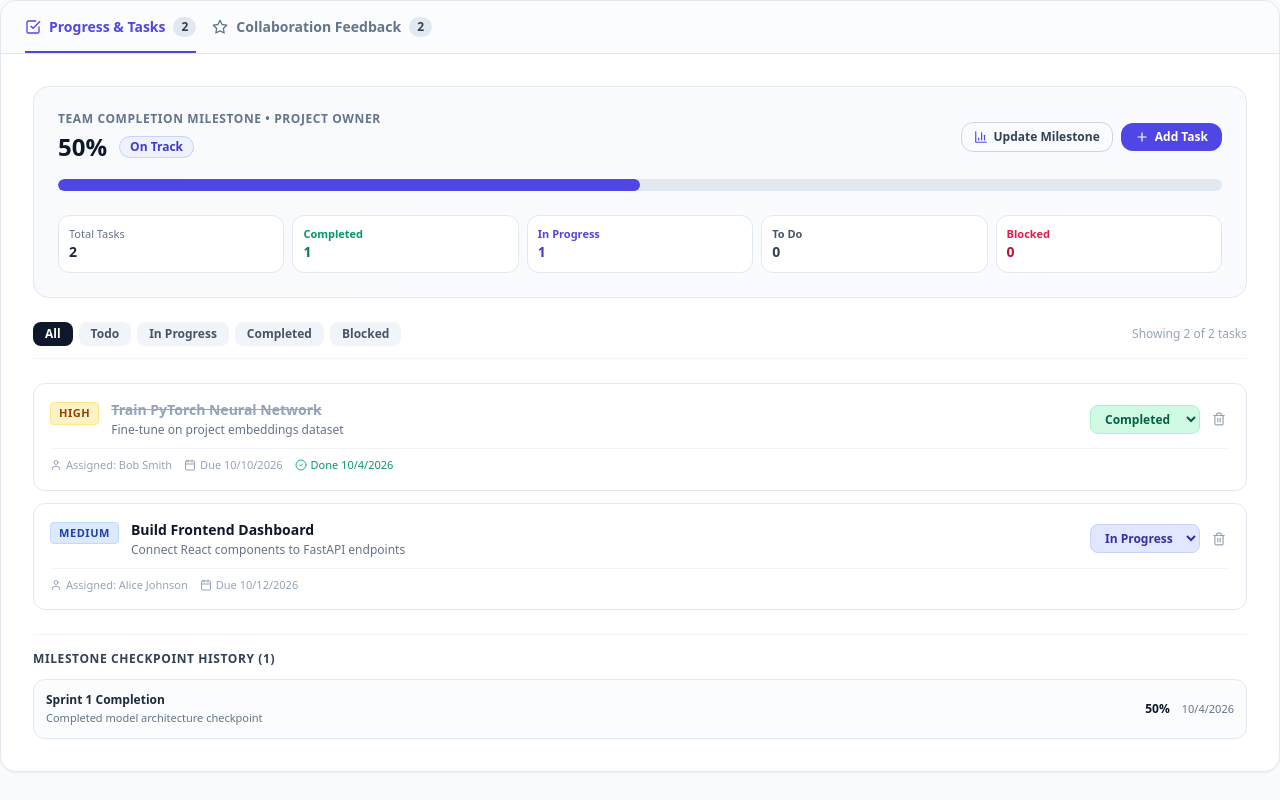
Scenario: Phase 14: Project Progress & Collaboration Feedback Frontend Tests › switches to Collaboration Feedback tab and renders satisfaction metrics
This screenshot has width=1280, height=800.
Expected: the text "Progress & Tasks" is shown, [49, 17, 166, 37]
Click the text "Collaboration Feedback" at x=319, y=27, box [236, 17, 401, 37]
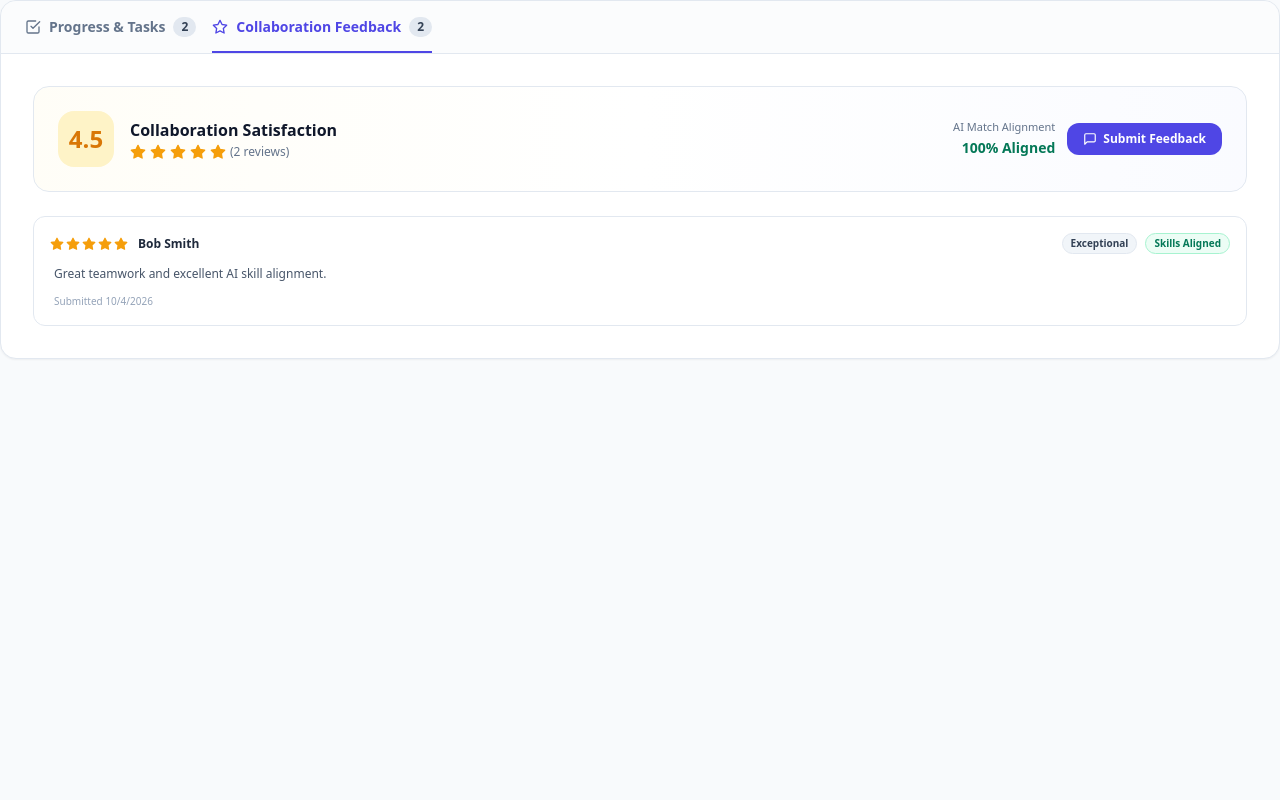
Expected: the text "4.5" is shown, [58, 111, 114, 167]
Expected: the text "(2 reviews)" is shown, [230, 144, 289, 160]
Expected: the text "100% Aligned" is shown, [962, 138, 1055, 157]
